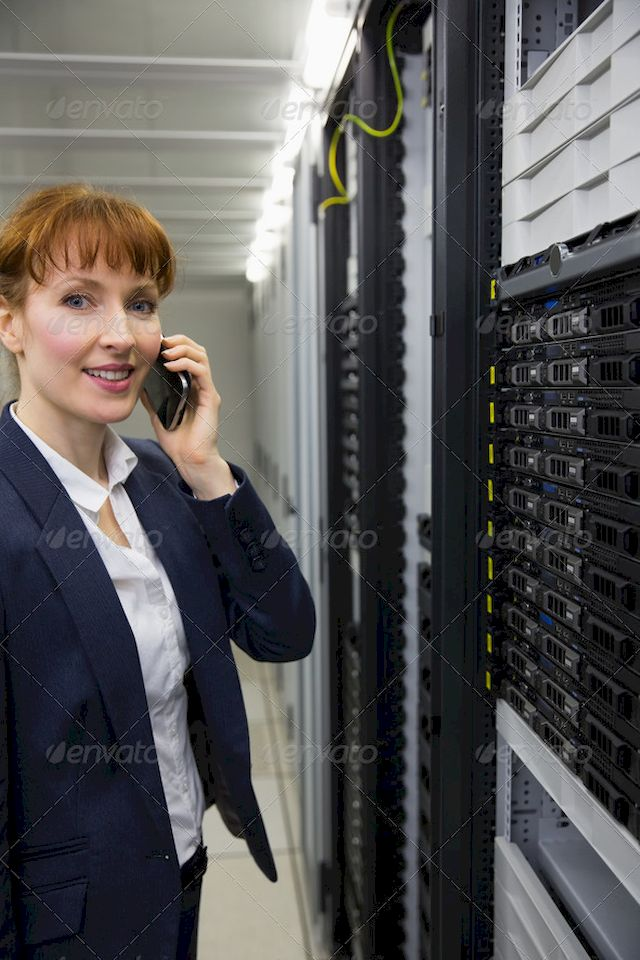phone: (140, 322, 215, 440)
talk: (29, 269, 233, 474)
